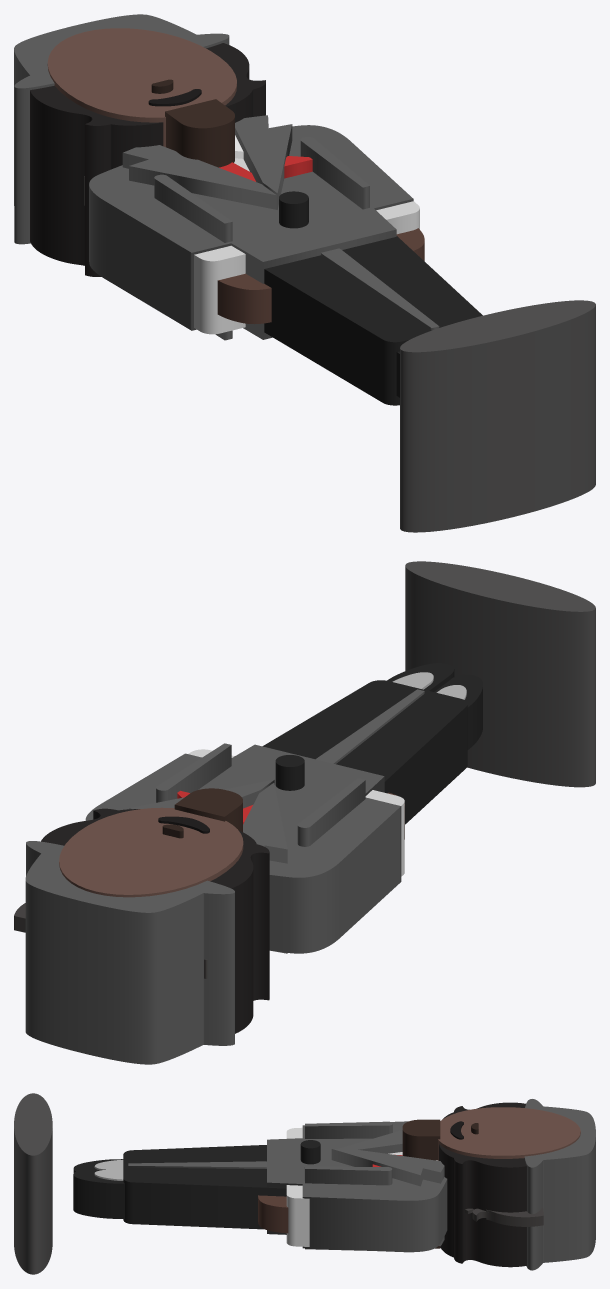
Rendered from emoji_u1f574_1f3ff.glb.
The picture shows the model from 3 angles, top to bottom: view 1: azimuth 30°, elevation 25°; view 2: azimuth 150°, elevation 25°; view 3: azimuth 270°, elevation 25°; orthographic projection. The views are drawn at different scales.
Visible parts, largest first — view 1: emoji_u1f574_1f3ff; view 2: emoji_u1f574_1f3ff; view 3: emoji_u1f574_1f3ff.
Boxes of the visible parts, left/top/right/bottom form: emoji_u1f574_1f3ff: left=14, top=14, right=595, bottom=532; emoji_u1f574_1f3ff: left=14, top=561, right=595, bottom=1064; emoji_u1f574_1f3ff: left=14, top=1093, right=595, bottom=1274.
Size of the model in its own units: 0.0106 by 0.0074 by 0.0328.
